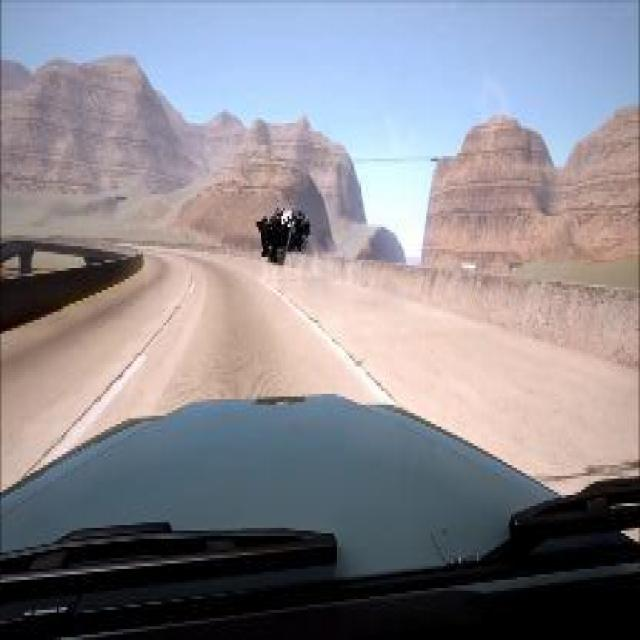accident: (252, 194, 312, 271)
